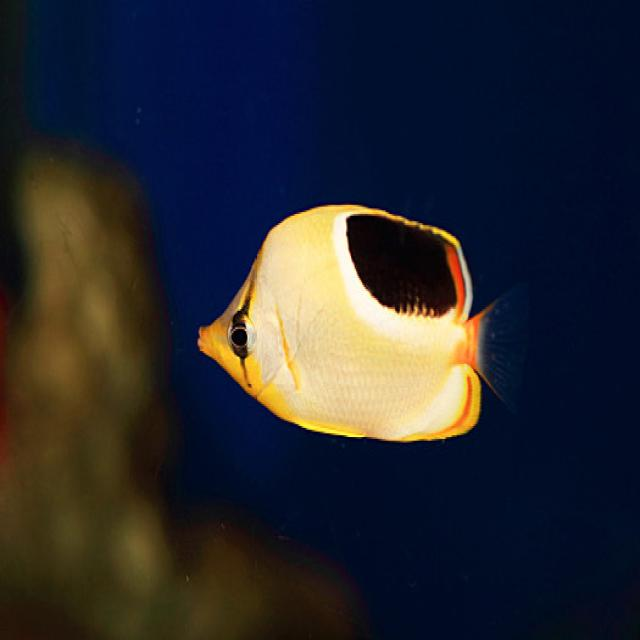ButterflyFish: (200, 197, 509, 438)
